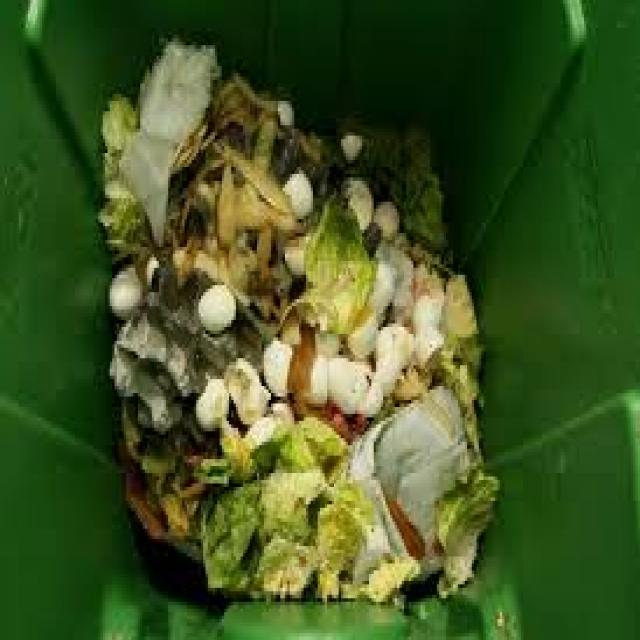food_waste: (123, 106, 471, 551)
